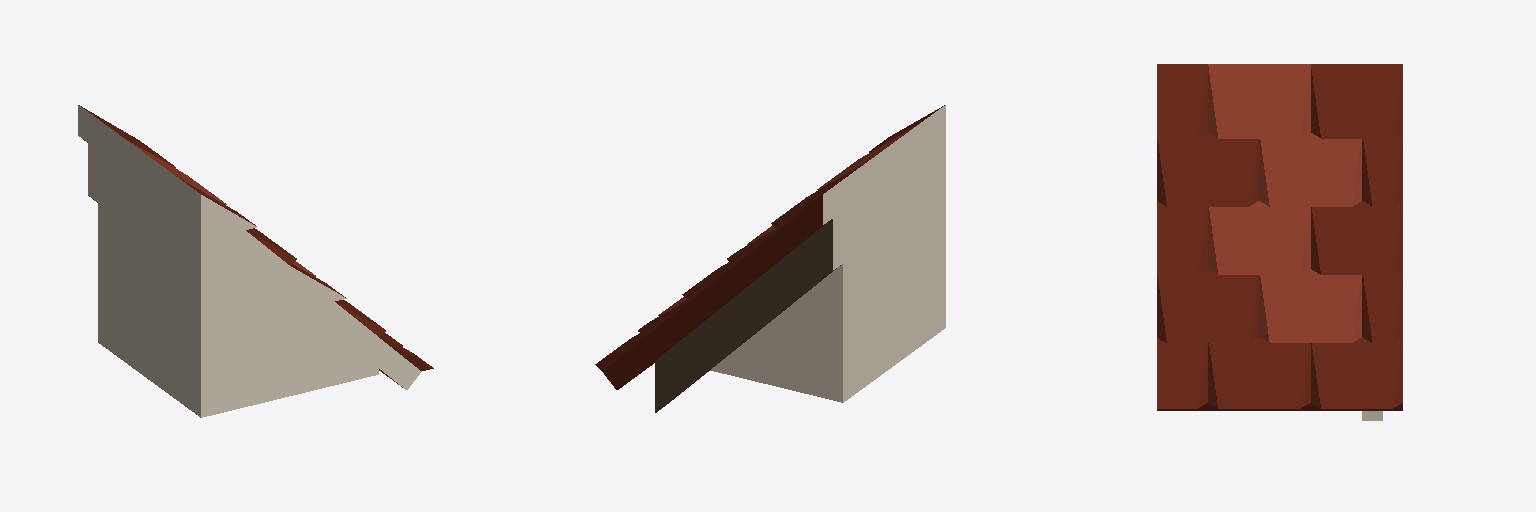
Rendered from Roof_Straight_Side_Eave_Edge.obj.
3 views of the same model, side by side, from view 1: azimuth 30°, elevation 25°; view 2: azimuth 150°, elevation 25°; view 3: azimuth 270°, elevation 25° (orthographic).
Visible parts, largest first — view 1: object1; view 2: object1; view 3: object1.
Boxes of the visible parts, x1,y1,x2,y2 form: object1: [78, 105, 433, 417]; object1: [595, 105, 945, 412]; object1: [1157, 64, 1402, 420].
Bounding box in the file's own units: 1.31 × 1.45 × 1.2.